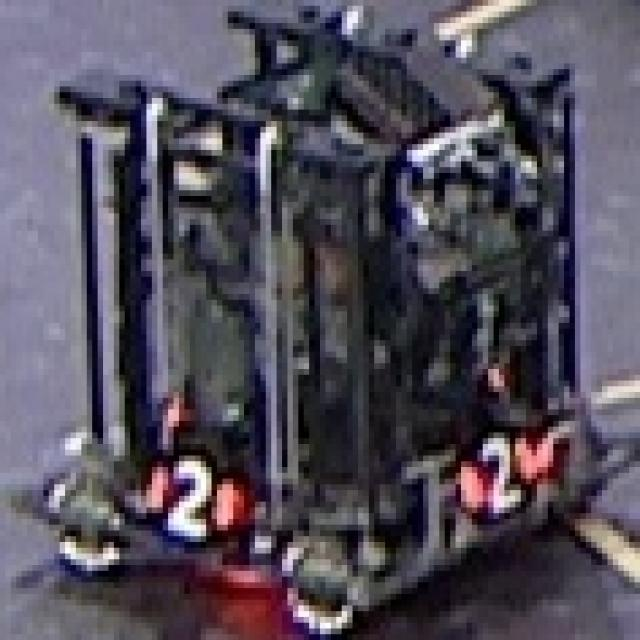R2: (136, 450, 238, 542), (456, 427, 542, 519)
